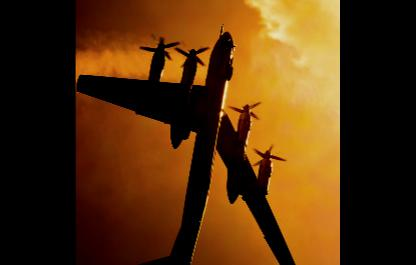Su57: (76, 22, 309, 264)
